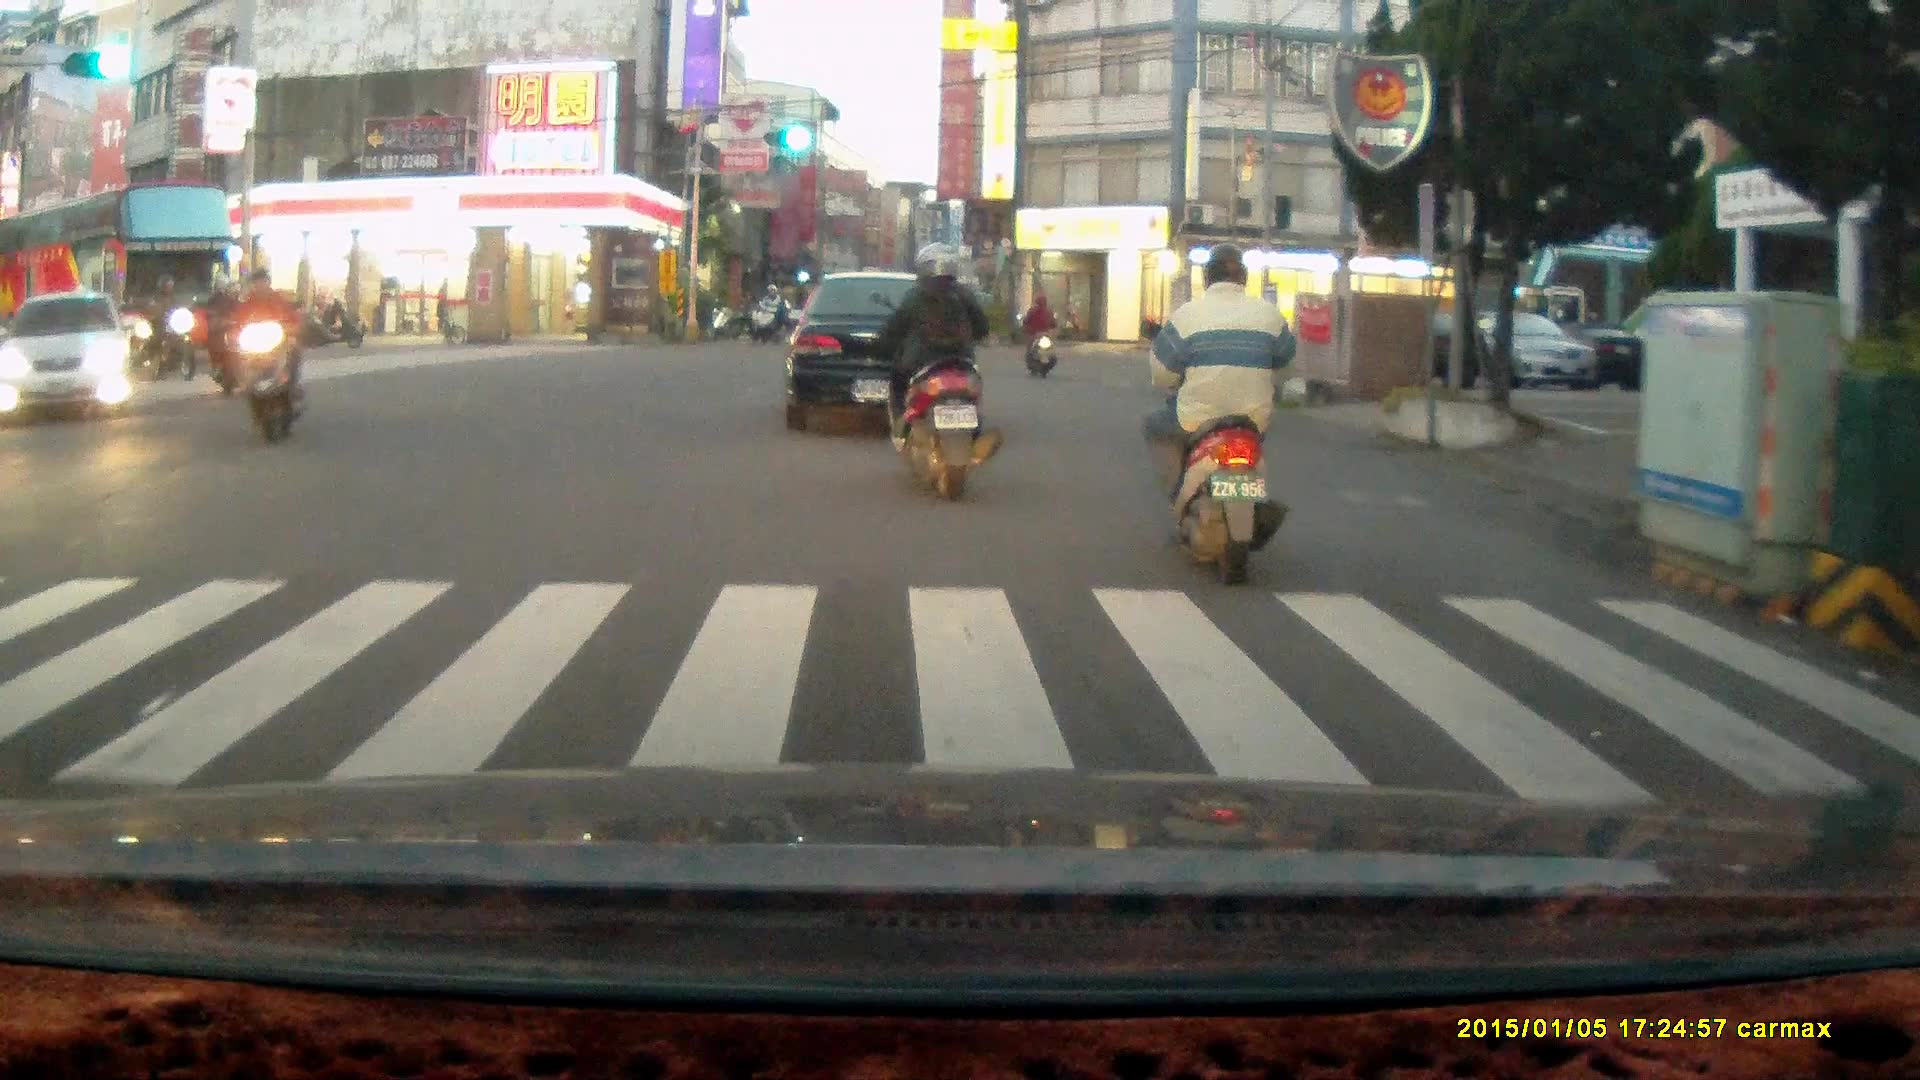rider: (1136, 240, 1294, 580), (865, 231, 1006, 499), (218, 265, 304, 452), (196, 270, 255, 400), (139, 268, 198, 380), (1019, 281, 1059, 372), (744, 287, 779, 352)
vehicle: (1, 187, 236, 362), (1, 292, 135, 423), (1408, 306, 1601, 393)
